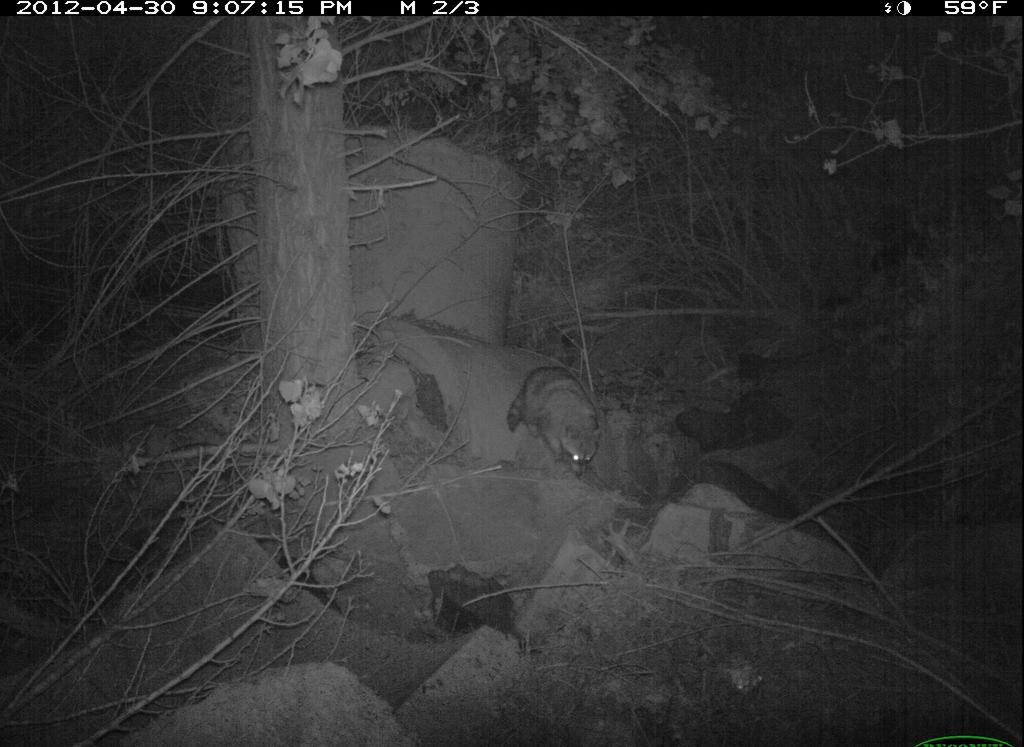raccoon: (506, 360, 615, 483)
